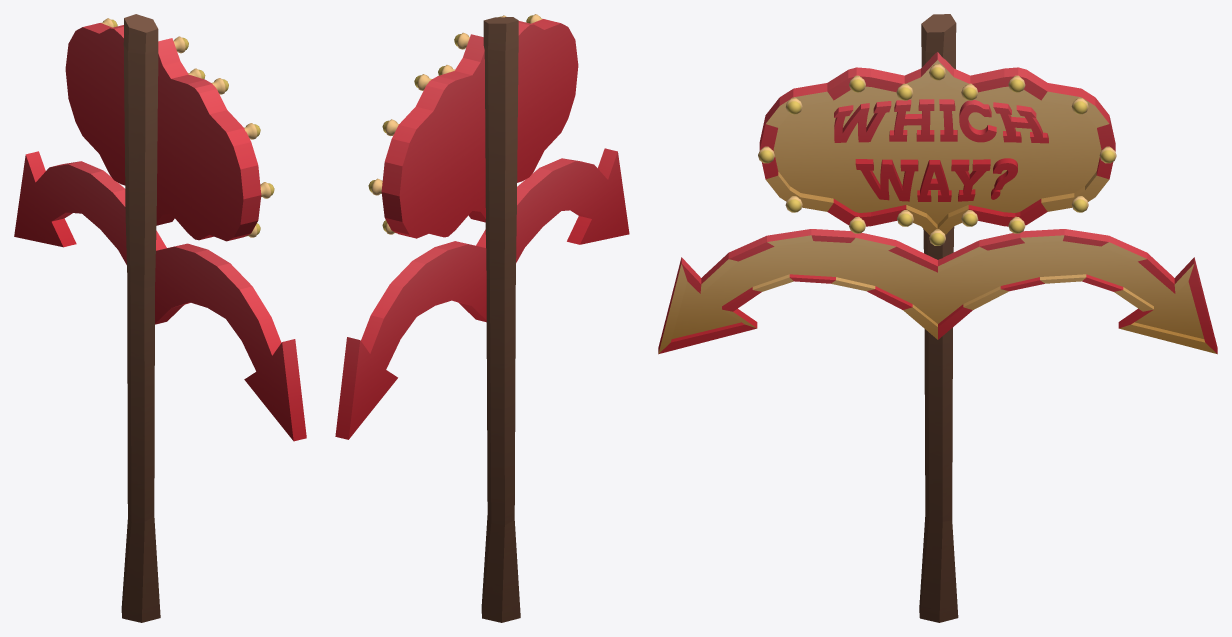
The model's file is which_way_stick.fbx.
3 views of the same model, side by side, from view 1: azimuth 30°, elevation 25°; view 2: azimuth 150°, elevation 25°; view 3: azimuth 270°, elevation 25° (orthographic).
Parts seen in each view (by area): view 1: which_way_stick; view 2: which_way_stick; view 3: which_way_stick.
Boxes of the visible parts, <box> form: which_way_stick: <box>14,14,306,622</box>; which_way_stick: <box>335,14,629,622</box>; which_way_stick: <box>658,14,1217,622</box>.
Bounding box in the file's own units: 28.88 × 249 × 213.
